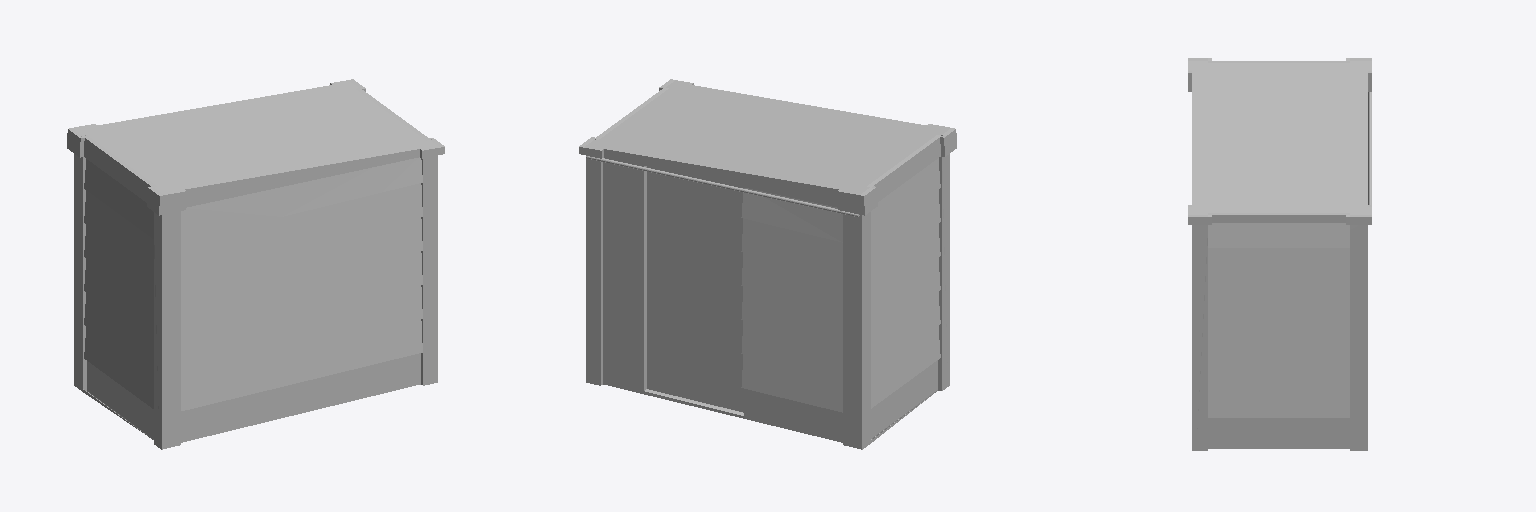
File: Shed01.obj
3 renders of one model, left to right at view 1: azimuth 30°, elevation 25°; view 2: azimuth 150°, elevation 25°; view 3: azimuth 270°, elevation 25°, orthographic.
Visible parts, largest first — view 1: pCylinder2; view 2: pCylinder2; view 3: pCylinder2.
Part boxes in pixels (bbox=[...]): pCylinder2: bbox=[67, 79, 444, 449]; pCylinder2: bbox=[579, 79, 956, 449]; pCylinder2: bbox=[1188, 58, 1371, 450].
Bounding box in the file's own units: 13.83 × 11.84 × 7.72.